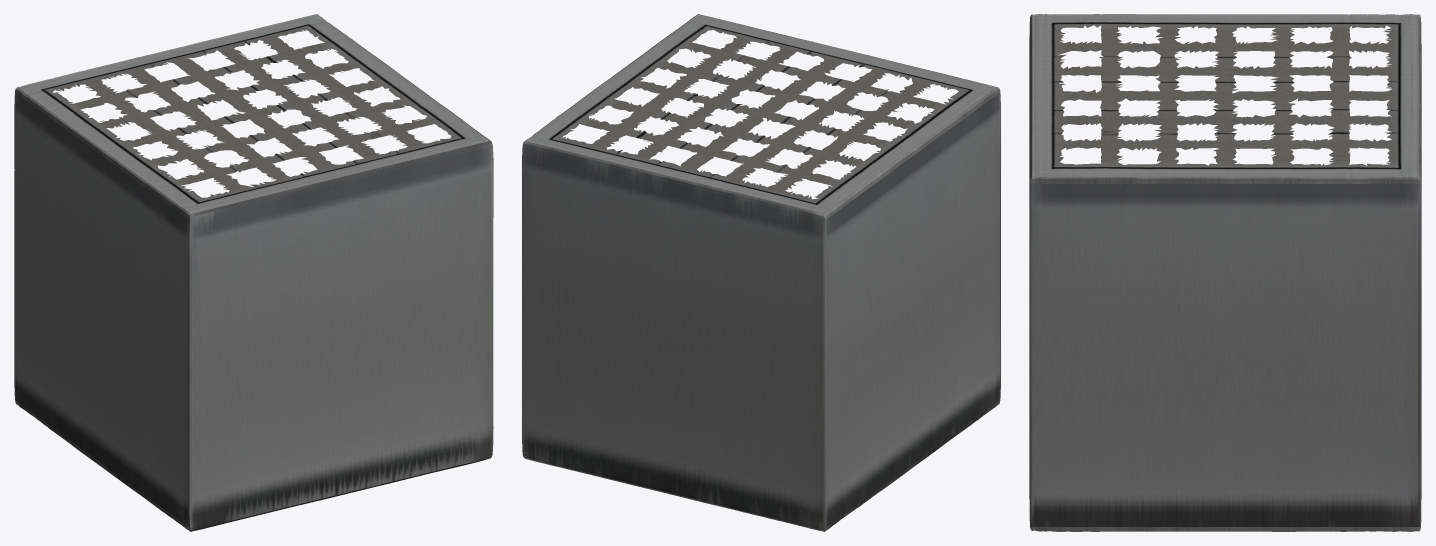
The model's file is floor-grating.glb.
The picture shows the model from 3 angles, left to right: view 1: azimuth 30°, elevation 25°; view 2: azimuth 150°, elevation 25°; view 3: azimuth 270°, elevation 25°; orthographic projection. The views are drawn at different scales.
Parts seen in each view (by area): view 1: tmpqqi9loxs.ply; view 2: tmpqqi9loxs.ply; view 3: tmpqqi9loxs.ply.
Part boxes in pixels (x1,y1,x2,y2): tmpqqi9loxs.ply: (14,14,493,531); tmpqqi9loxs.ply: (522,14,1000,531); tmpqqi9loxs.ply: (1029,14,1421,531).
Bounding box in the file's own units: 1 × 1 × 1.
1 material, 1 textured.
